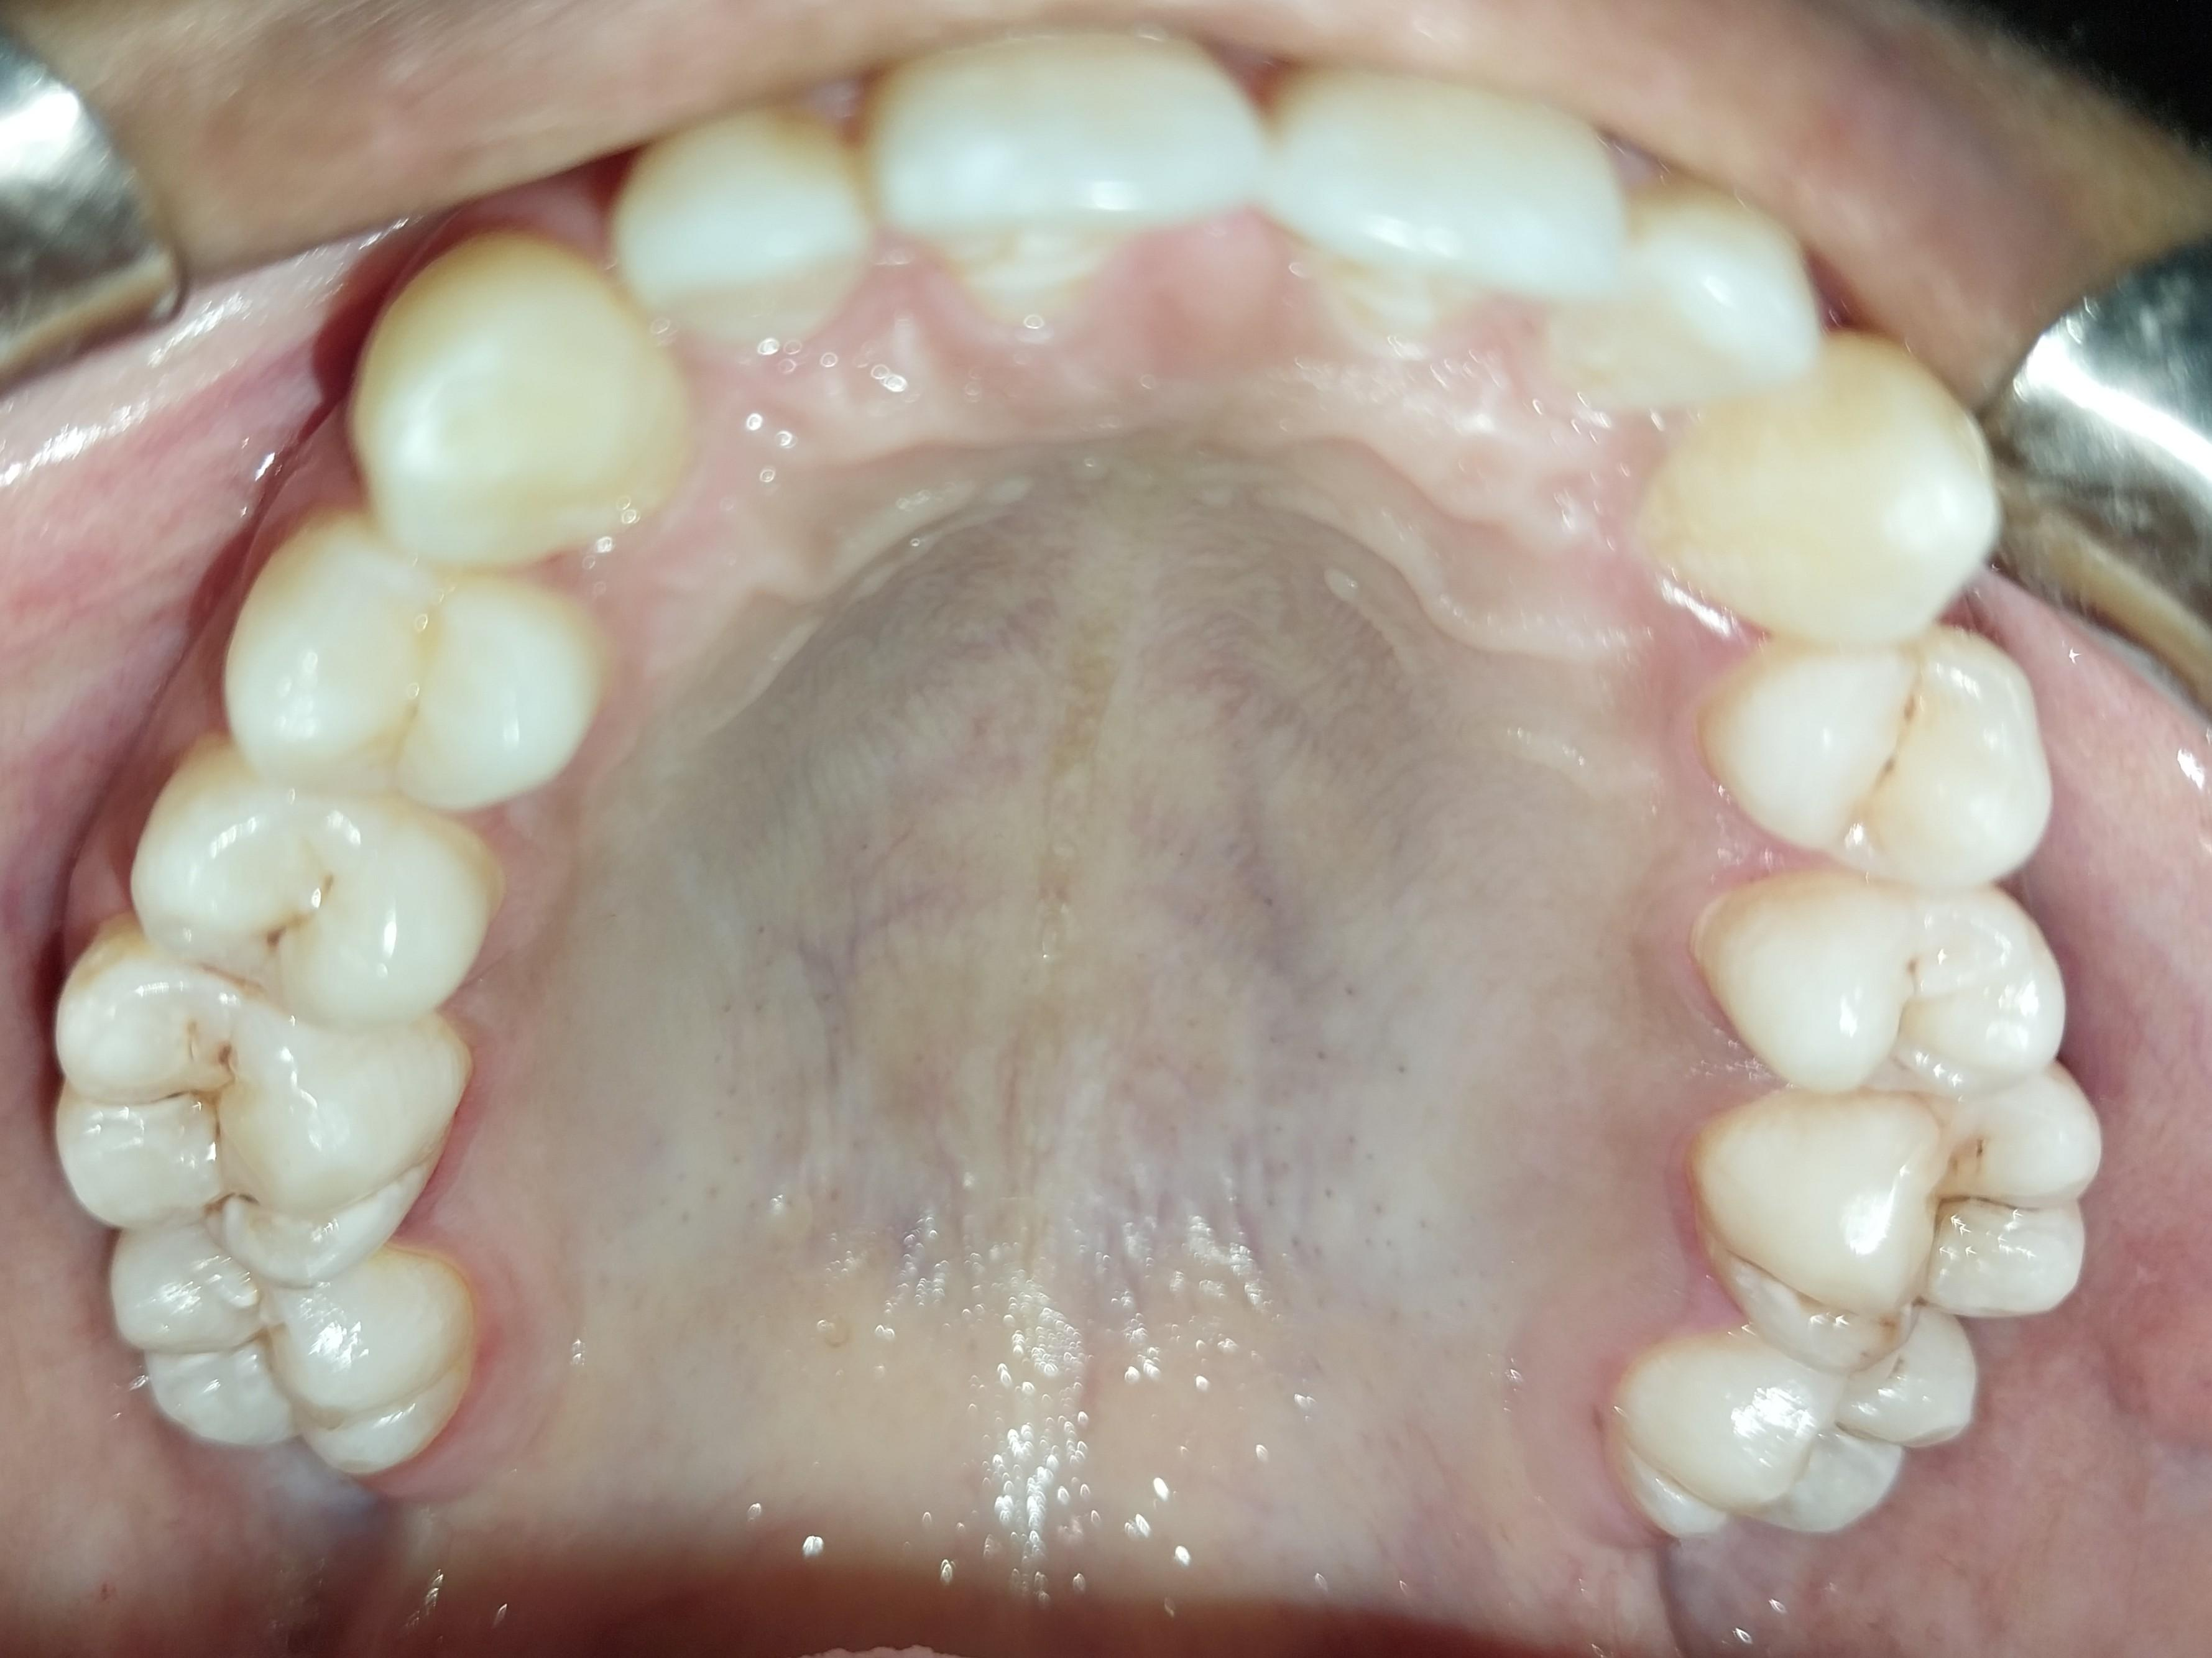D: (46, 939, 472, 1292), (1725, 1069, 2094, 1377), (111, 772, 481, 1004), (1725, 865, 2070, 1105), (1710, 637, 2078, 851)
